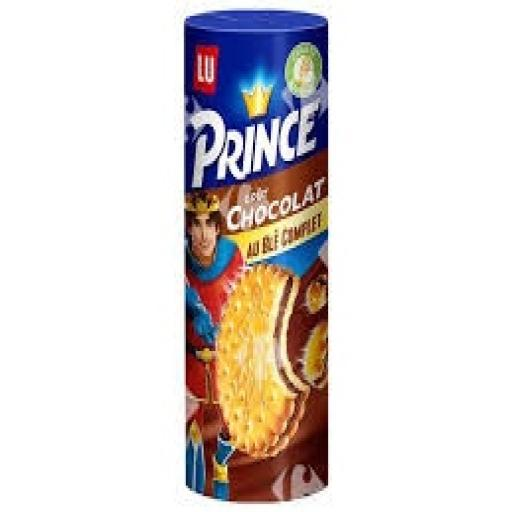prince: (138, 0, 337, 499)
